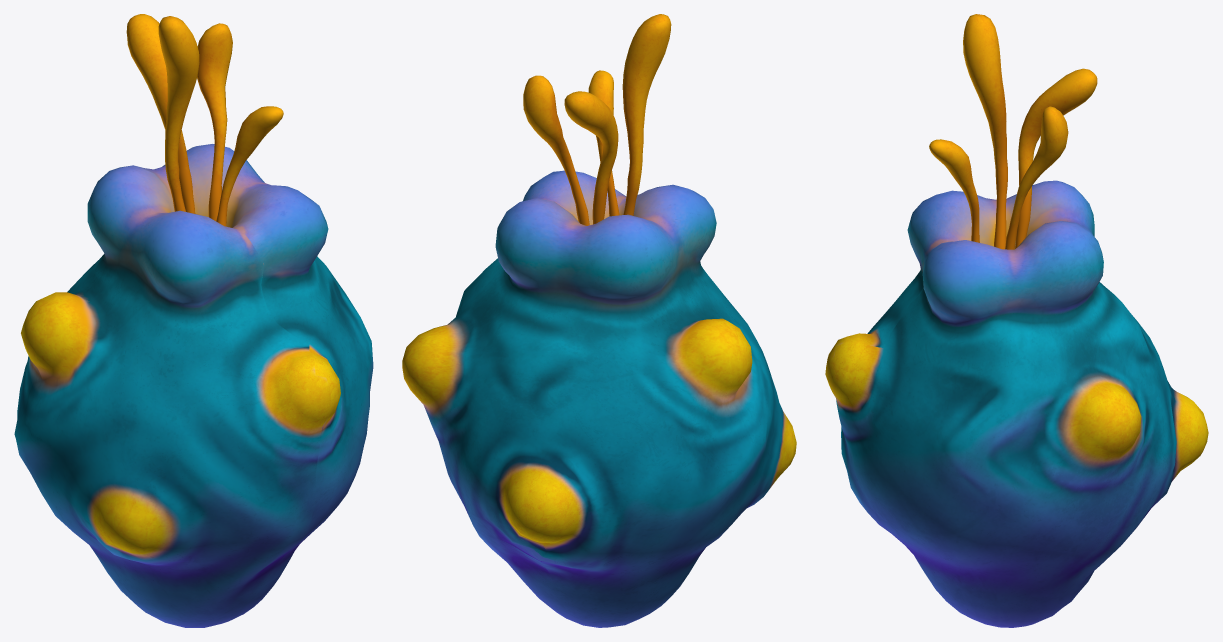
The model's file is plant01_mesh.fbx.
3 renders of one model, left to right at view 1: azimuth 30°, elevation 25°; view 2: azimuth 150°, elevation 25°; view 3: azimuth 270°, elevation 25°, orthographic. The views are drawn at different scales.
Visible parts, largest first — view 1: plant_mesh; view 2: plant_mesh; view 3: plant_mesh.
Boxes of the visible parts, x1=… form: plant_mesh: x1=14, y1=14, x2=373, y2=627; plant_mesh: x1=402, y1=14, x2=796, y2=627; plant_mesh: x1=825, y1=14, x2=1208, y2=627.
Bounding box in the file's own units: 4.09 × 7.64 × 4.52.
1 material, 1 textured.
